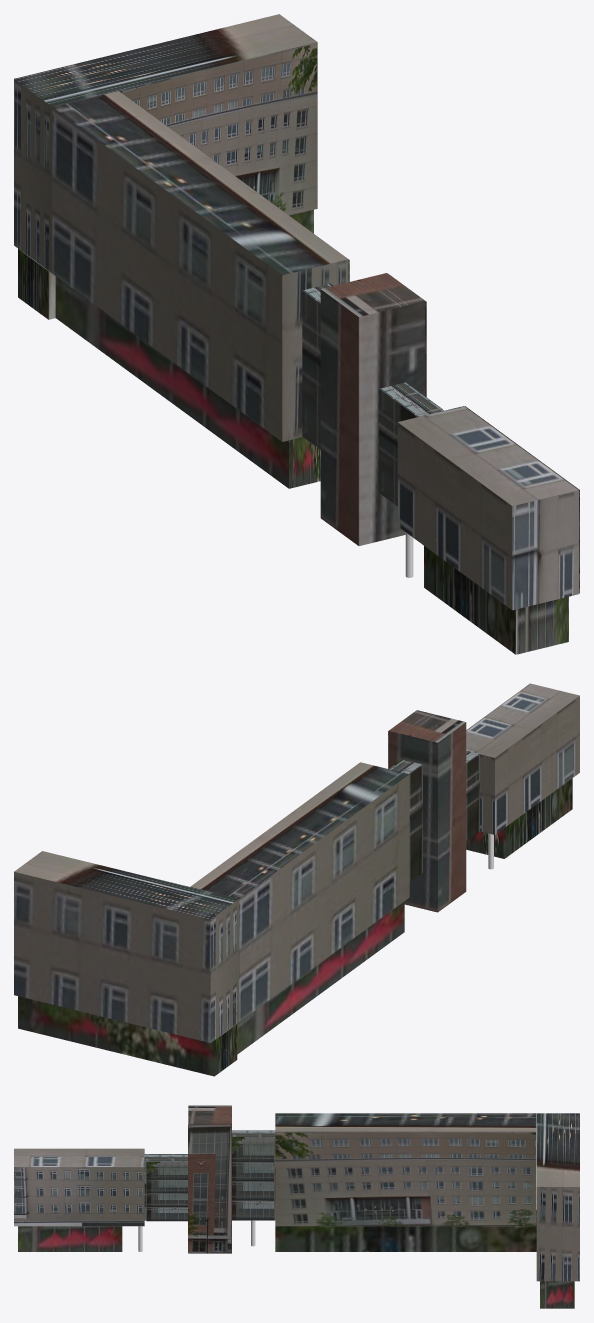
Rendered from livi_apt_A.glb.
The picture shows the model from 3 angles, top to bottom: view 1: azimuth 30°, elevation 25°; view 2: azimuth 150°, elevation 25°; view 3: azimuth 270°, elevation 25°; orthographic projection. The views are drawn at different scales.
Visible parts, largest first — view 1: Cube.007, Cube.009, Cube.003, Plane, Cube.005, Cube.008, Cube.006, Cube.004, Cube.002, Cube; view 2: Cube.005, Cube.007, Cube.009, Cube.003, Cube, Cube.008, Cube.006, Cube.002, Cube.004; view 3: Plane.002, Plane.001, Cube.005, Cube.008, Plane.004, Cube.007, Plane.003, Cube.006, Cube.009, Plane.005, Cube.003, Cube (+2 smaller).
Boxes of the visible parts, bbox=[...] form: Cube.007: bbox=[52, 91, 348, 441]; Cube.009: bbox=[397, 406, 578, 610]; Cube.003: bbox=[320, 273, 425, 545]; Plane: bbox=[120, 43, 317, 215]; Cube.005: bbox=[14, 14, 317, 272]; Cube.008: bbox=[55, 276, 320, 488]; Cube.006: bbox=[424, 546, 568, 654]; Cube.004: bbox=[379, 382, 443, 506]; Cube.002: bbox=[302, 284, 331, 449]; Cube: bbox=[18, 209, 313, 319]; Cube.005: bbox=[14, 851, 238, 1042]; Cube.007: bbox=[190, 762, 409, 1021]; Cube.009: bbox=[466, 683, 579, 834]; Cube.003: bbox=[388, 710, 466, 912]; Cube: bbox=[18, 996, 237, 1076]; Cube.008: bbox=[237, 901, 404, 1054]; Cube.006: bbox=[466, 778, 572, 858]; Cube.002: bbox=[390, 760, 422, 881]; Cube.004: bbox=[466, 750, 479, 840]; Plane.002: bbox=[275, 1132, 535, 1225]; Plane.001: bbox=[14, 1167, 144, 1226]; Cube.005: bbox=[536, 1113, 579, 1281]; Cube.008: bbox=[275, 1210, 536, 1251]; Plane.004: bbox=[188, 1124, 231, 1253]; Cube.007: bbox=[275, 1113, 536, 1226]; Plane.003: bbox=[232, 1137, 274, 1220]; Cube.006: bbox=[18, 1226, 122, 1251]; Cube.009: bbox=[14, 1148, 144, 1225]; Plane.005: bbox=[146, 1161, 187, 1221]; Cube.003: bbox=[188, 1105, 231, 1253]; Cube: bbox=[540, 1281, 574, 1308].
Bounding box in the file's own units: 19.98 × 16.52 × 64.86.
Materials: 18 (15 with a texture image).
